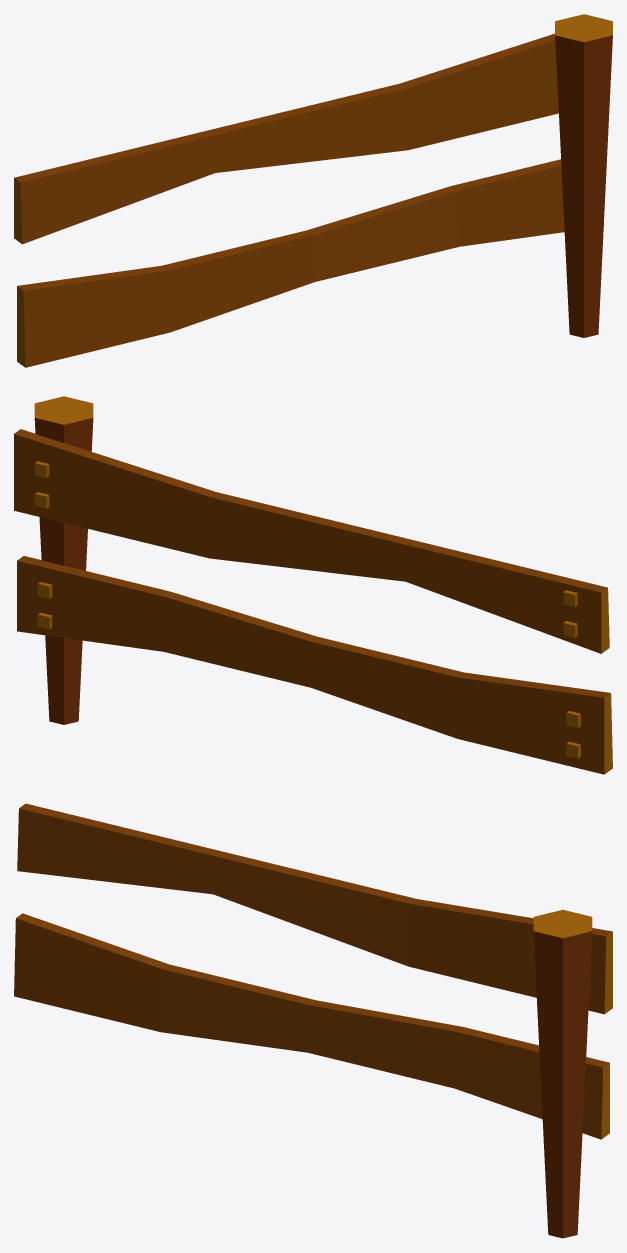
File: Fence_01_2.fbx
3 views of the same model, one above another, from view 1: azimuth 30°, elevation 25°; view 2: azimuth 150°, elevation 25°; view 3: azimuth 330°, elevation 25° (orthographic).
Parts seen in each view (by area): view 1: Fence_2; view 2: Fence_2; view 3: Fence_2.
Part boxes in pixels (<box>): Fence_2: <box>14,14,612,367</box>; Fence_2: <box>14,396,612,774</box>; Fence_2: <box>14,803,612,1238</box>.
Size of the model in its own units: 200 by 100 by 22.46.
1 material, 1 textured.
